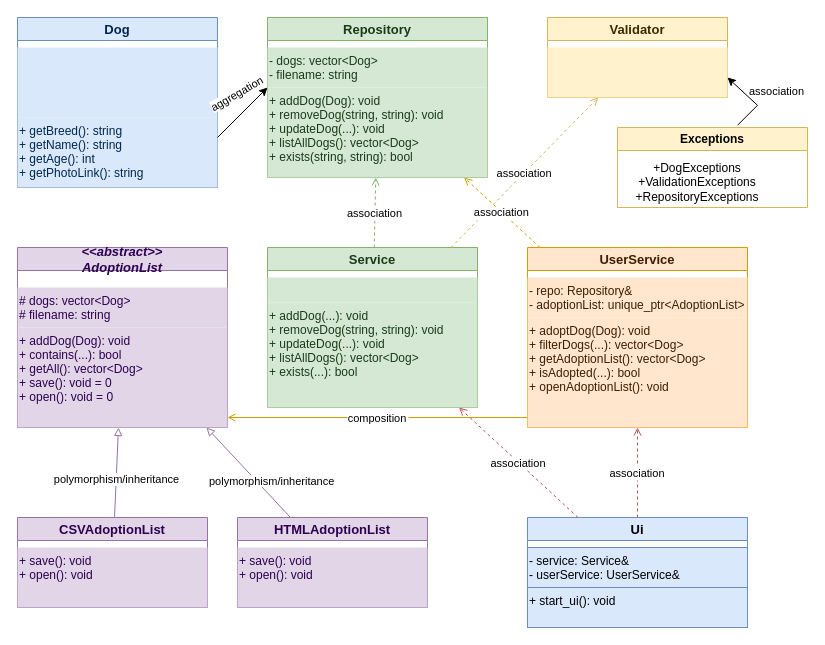
The diagram is 825 pixels wide and 645 high, and some of its shapes have lost their labels. Here are the shapes that lost their labels. From the top down, the centre of each, then its label:
At (x=117, y=82): "- breed: string - name: string - age: int - photo_link: string".
At (x=637, y=72): "+ validate(Dog): void".
At (x=372, y=289): "- repo: Repository&".
